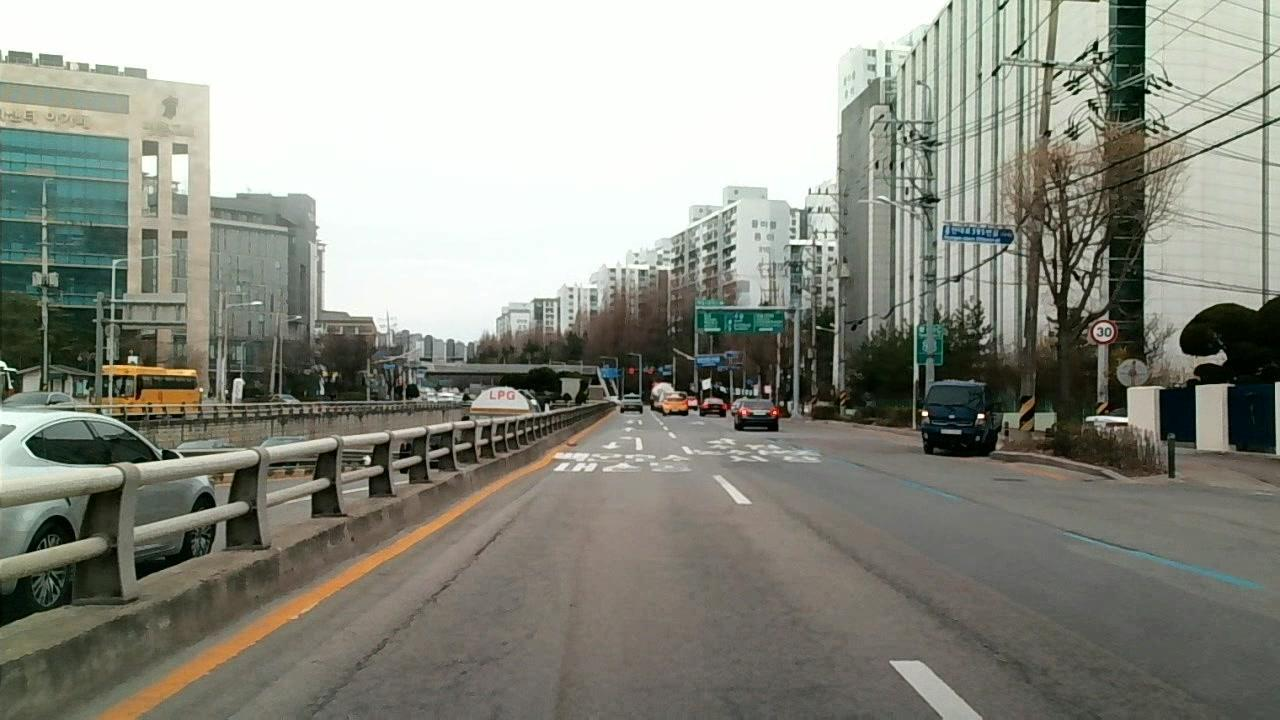banner: (297, 582, 445, 720), (944, 613, 1085, 720), (792, 506, 925, 603), (448, 504, 518, 578), (1049, 518, 1158, 560), (838, 458, 935, 488)
